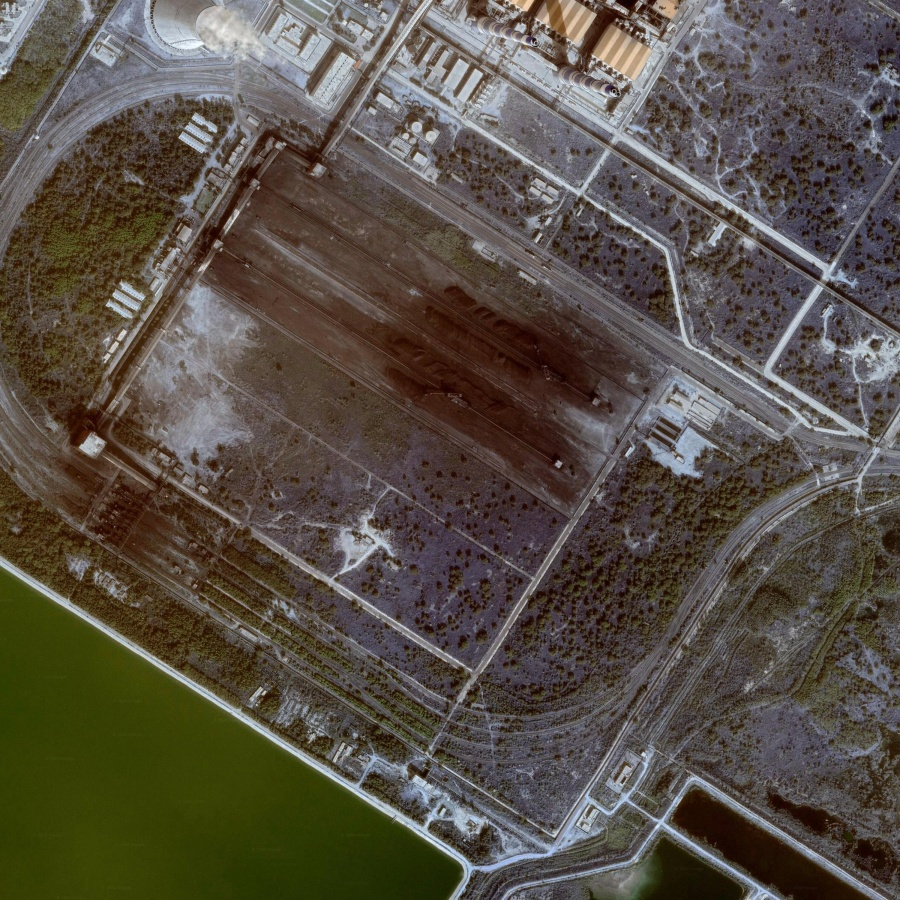PowerPlant: (185, 133, 659, 511)
